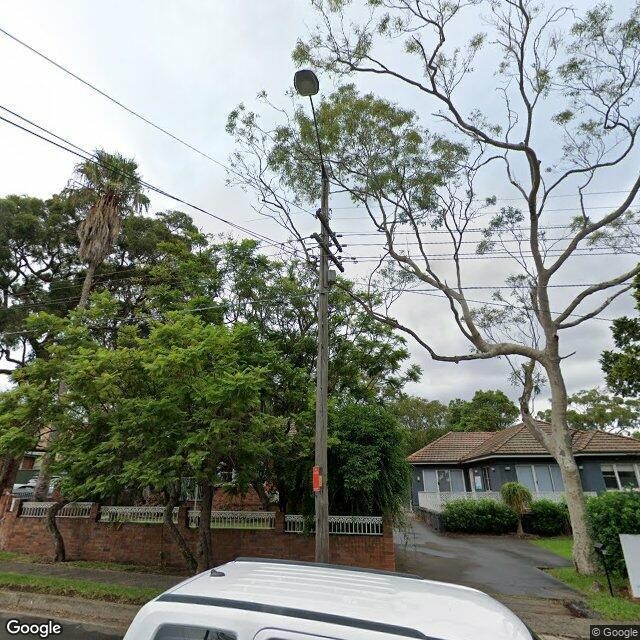crossarm: (316, 209, 347, 253), (312, 233, 344, 273)
streetlight: (293, 69, 328, 181)
timber-pole: (315, 176, 328, 565)
